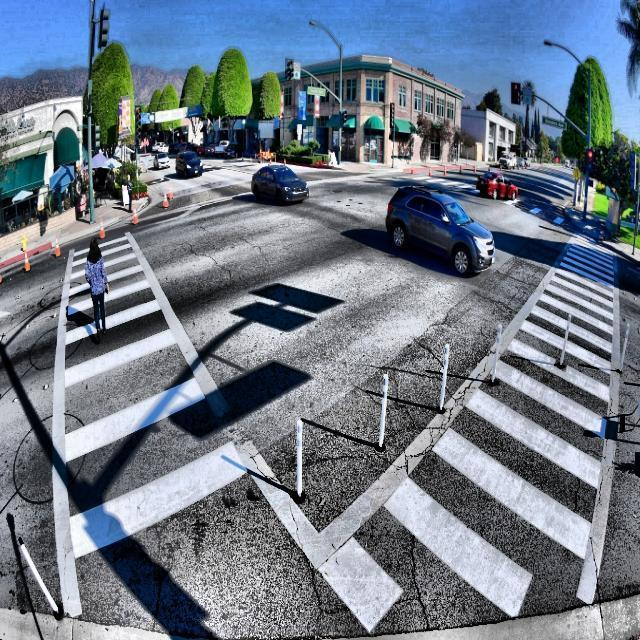crosswalk: (339, 233, 617, 632), (55, 235, 321, 607)
